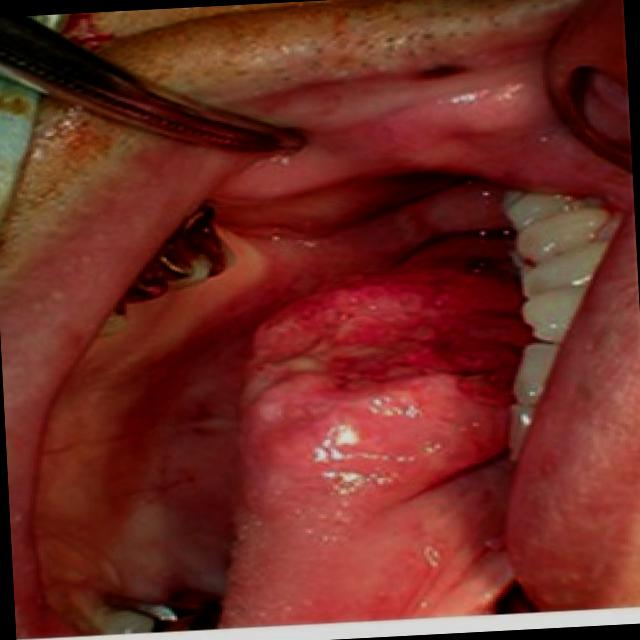Cancer: (195, 172, 553, 541)
